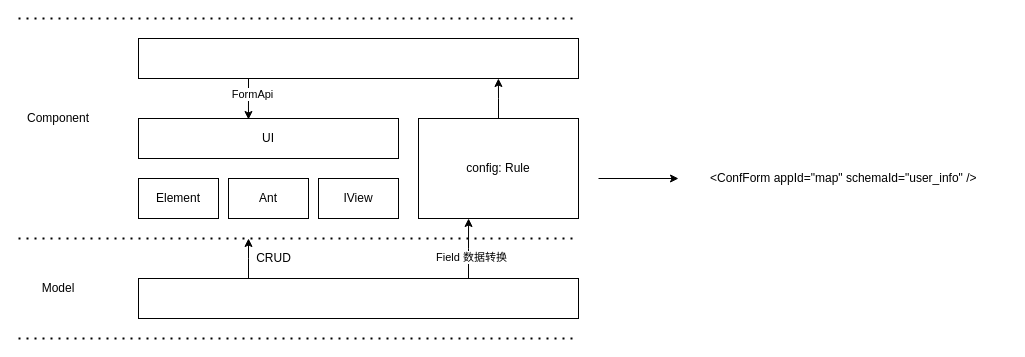
Image size: 1025x357. Some labels were removed from this diagram. Here are the shapes that lost their labels. From the top down, the box of each, then its label:
(138, 38, 578, 78): Form-Create
(138, 278, 578, 318): 配置平台
